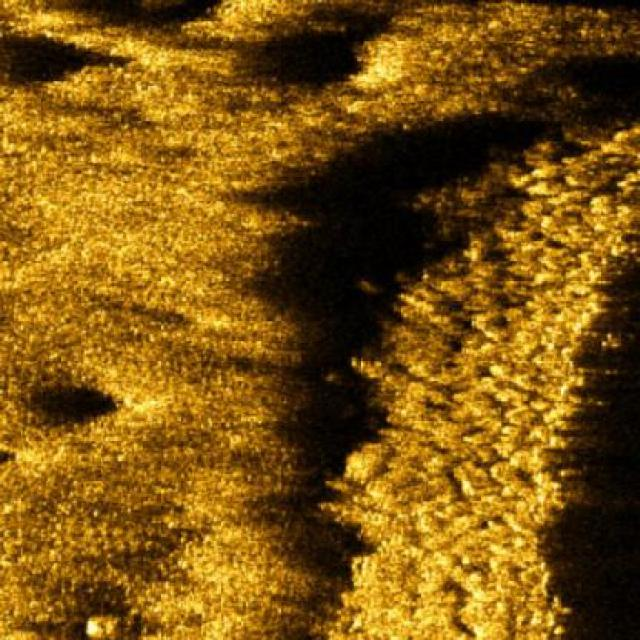bedrock group: (322, 127, 640, 639)
